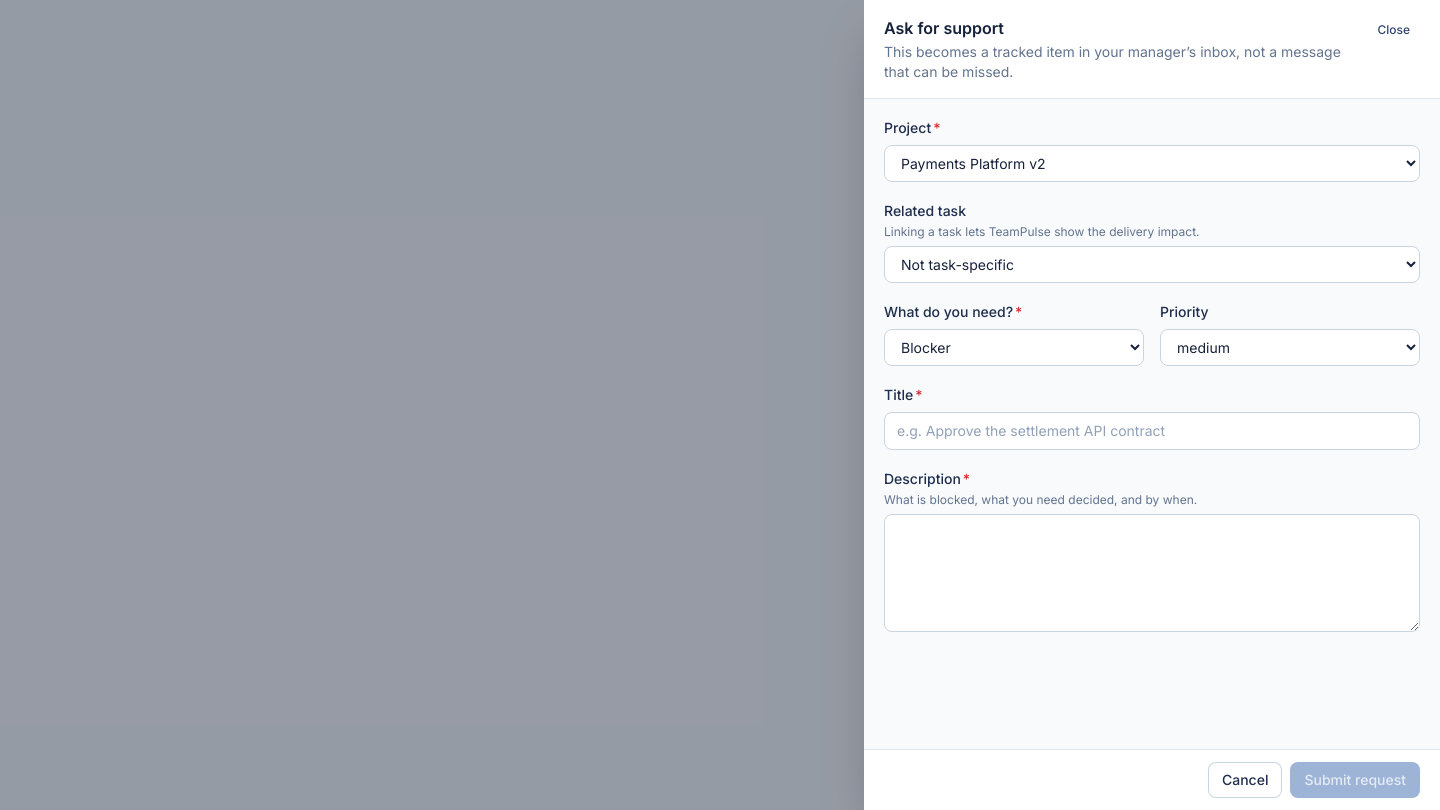
NewRequestDrawer › reports a submission failure without losing what was typed
Type "Needs approval" into the field with placeholder "e.g. Approve the settlement API contract". click: (1152, 431)
box: [884, 412, 1420, 450]
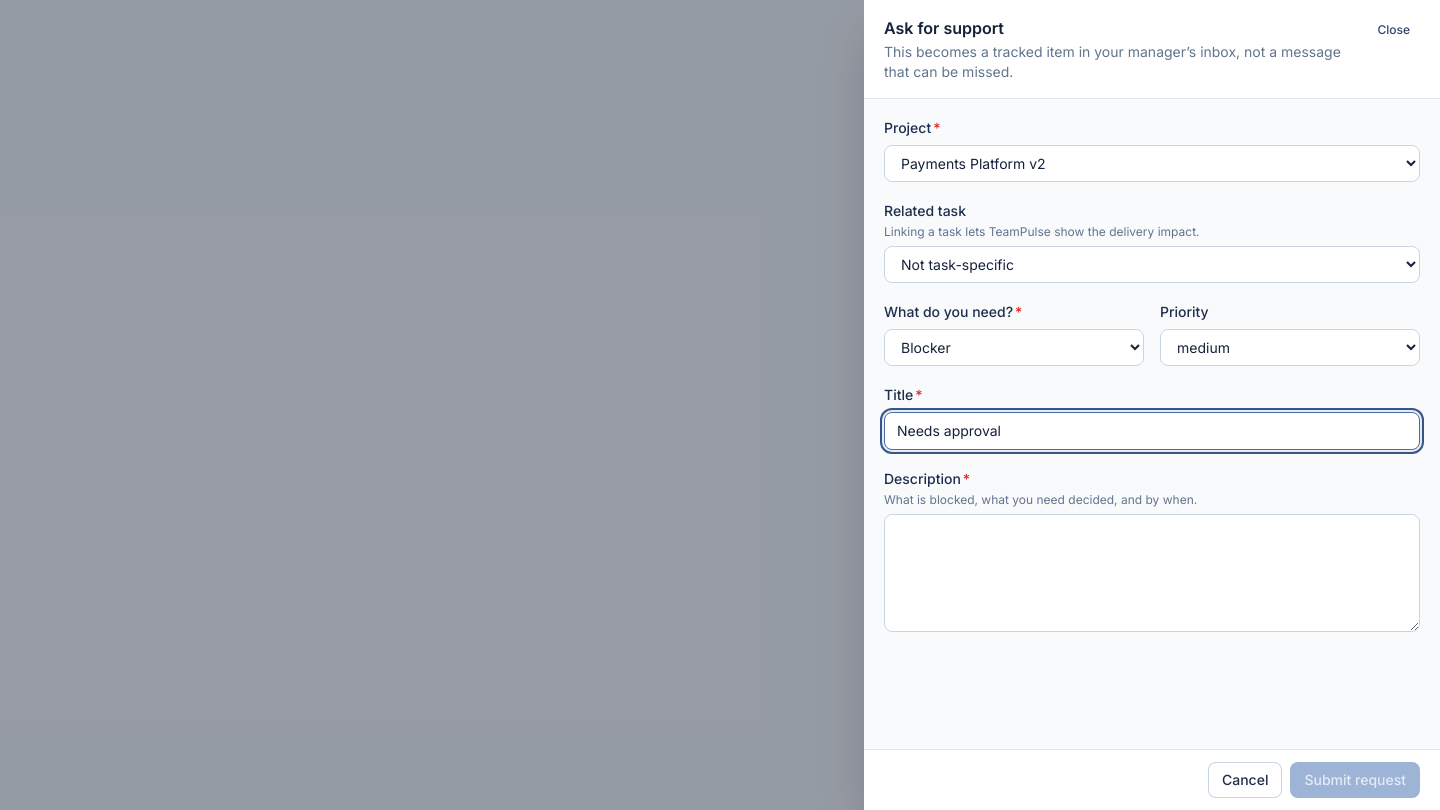
Type "Please approve." into the text box. click: (1152, 573)
box: [884, 514, 1420, 632]
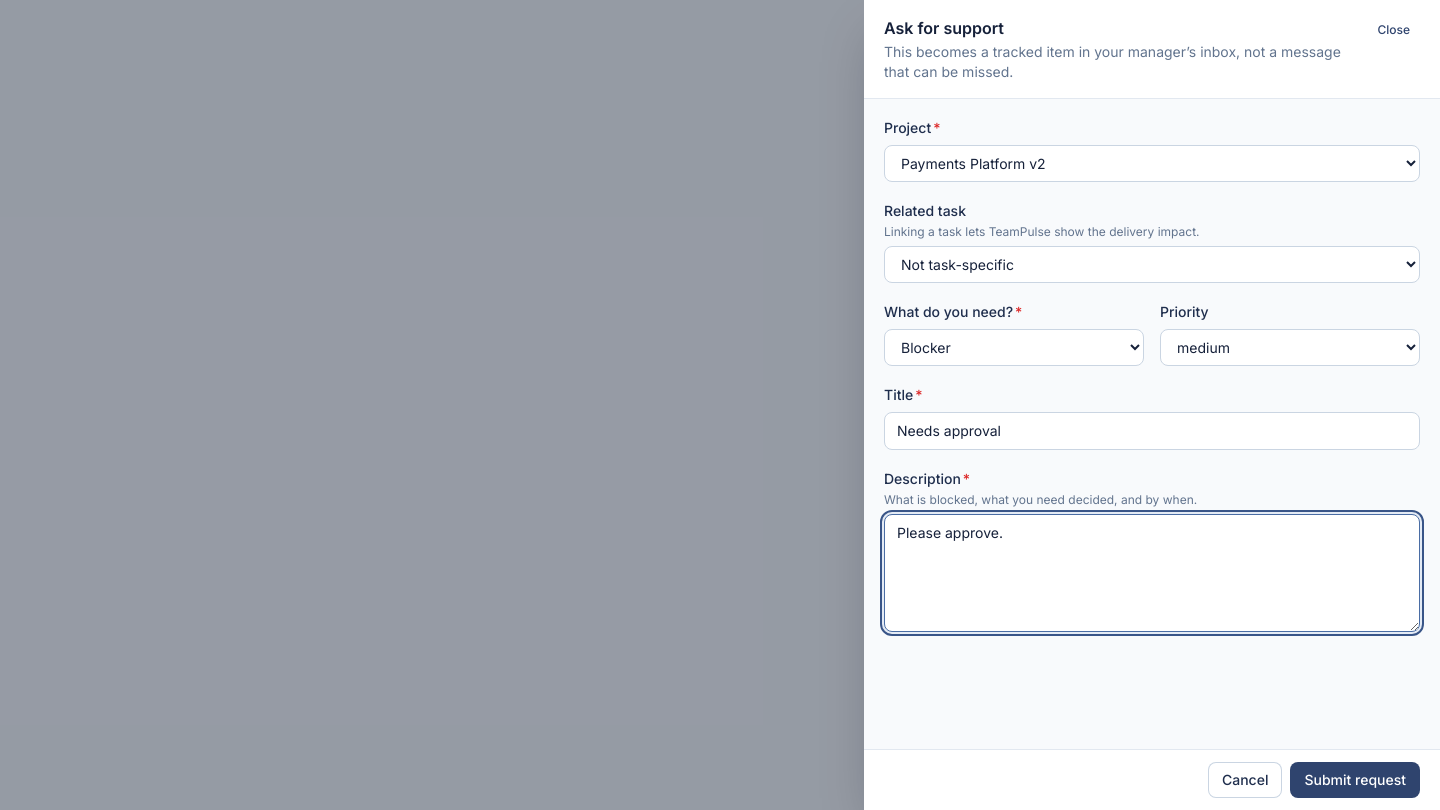
Click the button "Submit request". click: (1355, 780)
box: [1290, 762, 1420, 798]
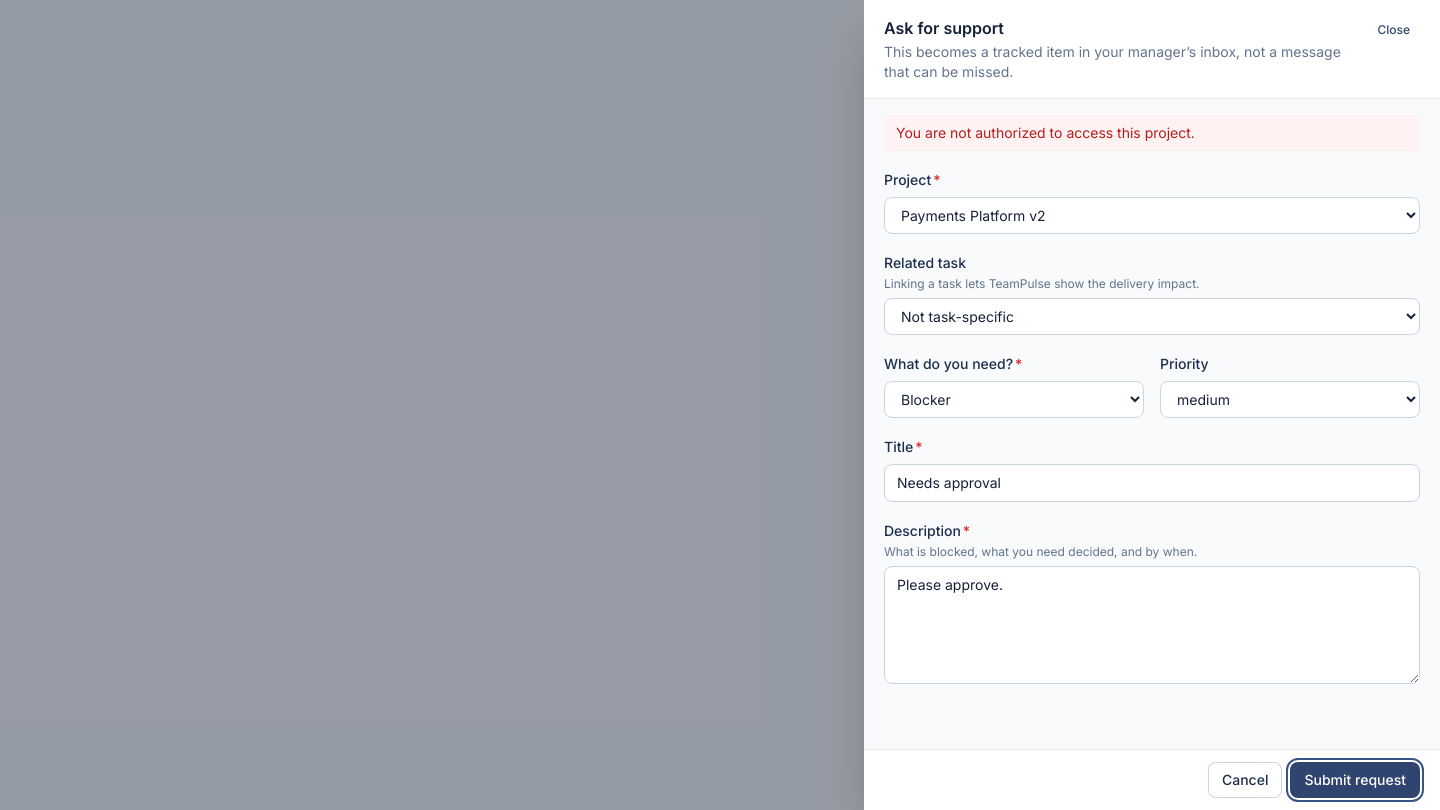
Result: the text "You are not authorized to access this project." is shown at [884, 115, 1420, 151]
